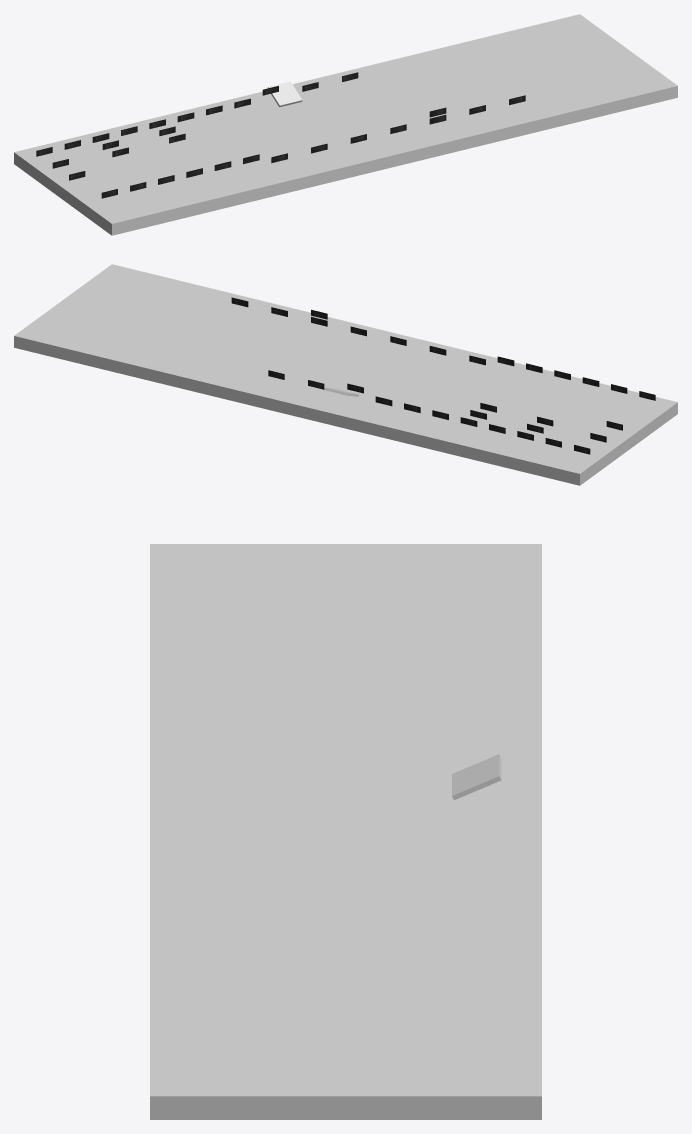
File: my-first-level.glb
3 views of the same model, one above another, from view 1: azimuth 30°, elevation 25°; view 2: azimuth 150°, elevation 25°; view 3: azimuth 270°, elevation 25° (orthographic). The views are drawn at different scales.
Visible parts, largest first — view 1: Main platform, Cube; view 2: Main platform; view 3: Main platform, Cube.
Boxes of the visible parts, left/top/right/bottom form: Main platform: left=14, top=14, right=677, bottom=235; Cube: left=268, top=81, right=302, bottom=107; Main platform: left=14, top=264, right=677, bottom=485; Main platform: left=150, top=544, right=541, bottom=1119; Cube: left=452, top=754, right=501, bottom=800.
Bounding box in the file's own units: 100 × 5.21 × 30.
Materials: 32 (31 with a texture image).
